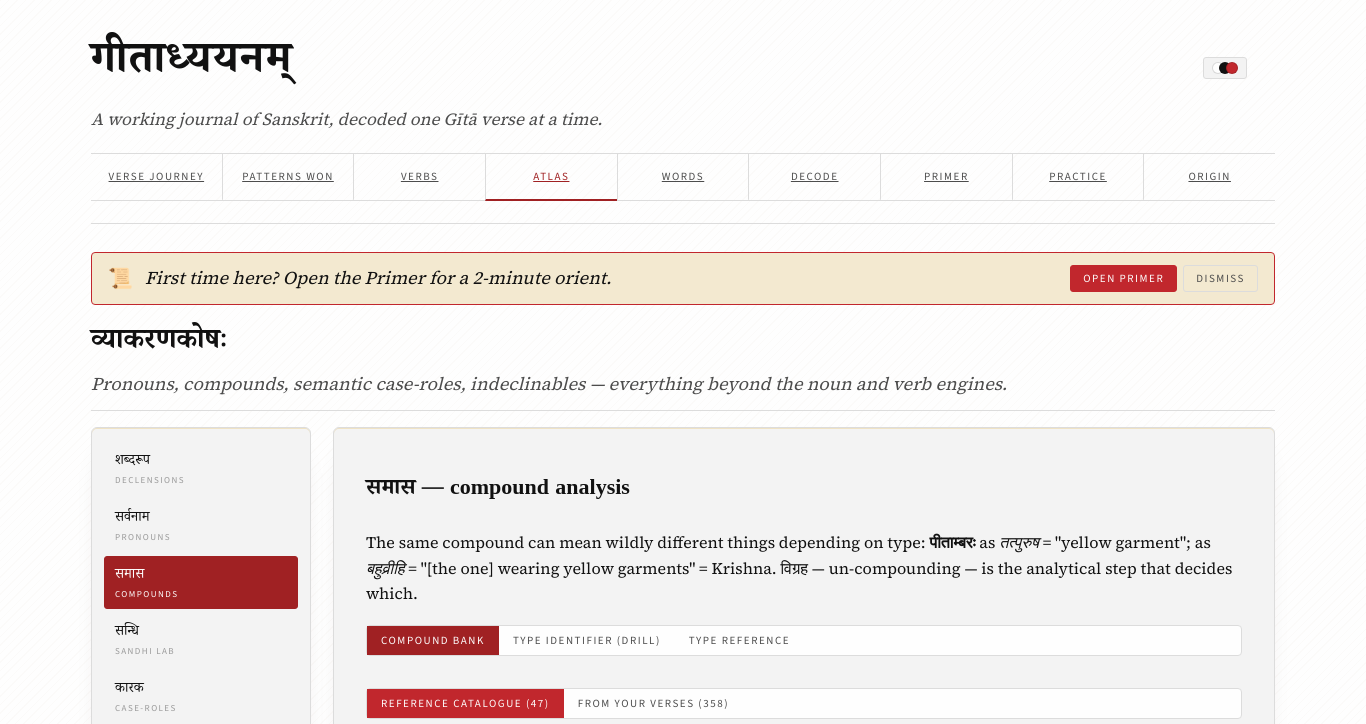
Scenario: workflows — cross-tab learning journeys › W3 — Samāsa Bank verses-mode → click ref → land on verse with compound
The image size is (1366, 724).
Expected: the heading "समास — compound analysis" is shown, [366,474,630,508]
# Switch to "From your verses" mode.
Click the button "From your verses (358)": (653, 703) [564,689,743,718]
(page scrolled)
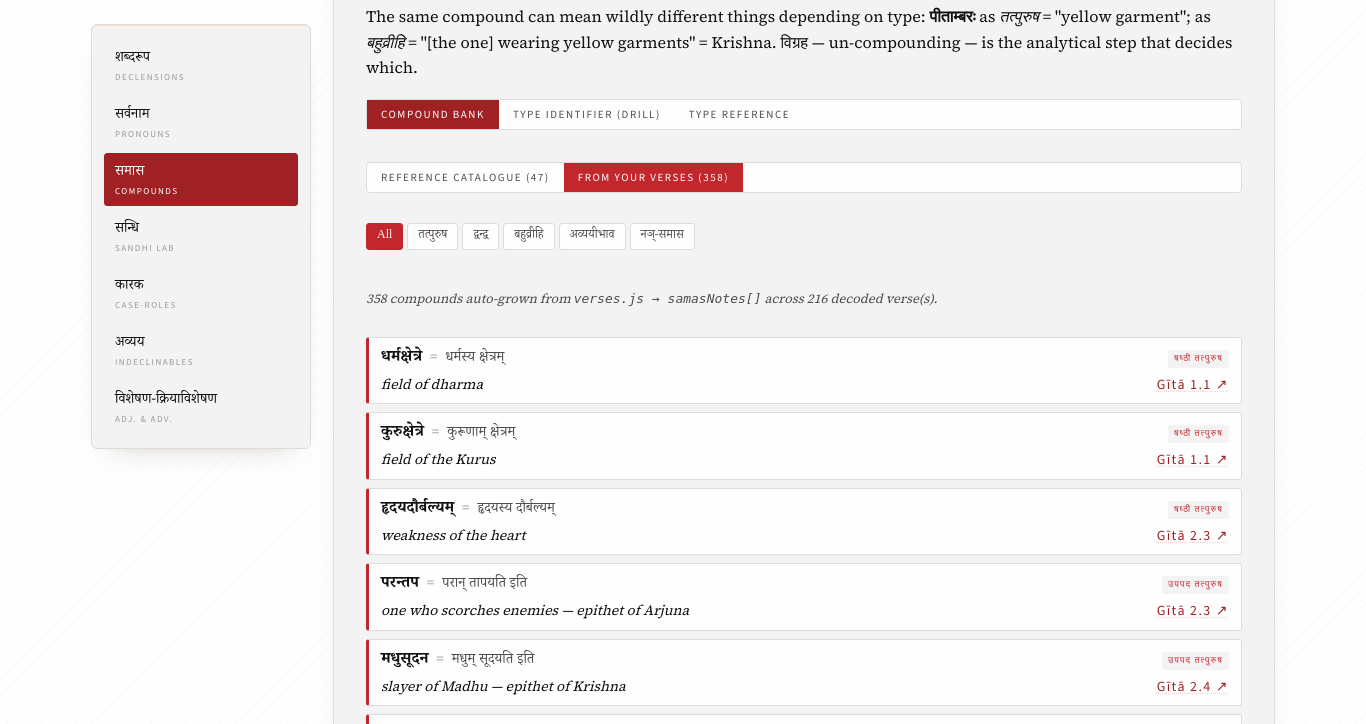
Expected: the button "Gītā 1.1 ↗" in the row of "field of dharma" is shown
Click the button "Gītā 1.1 ↗" in the row of "field of dharma": (1193, 384) [1157,375,1229,394]
(page scrolled)
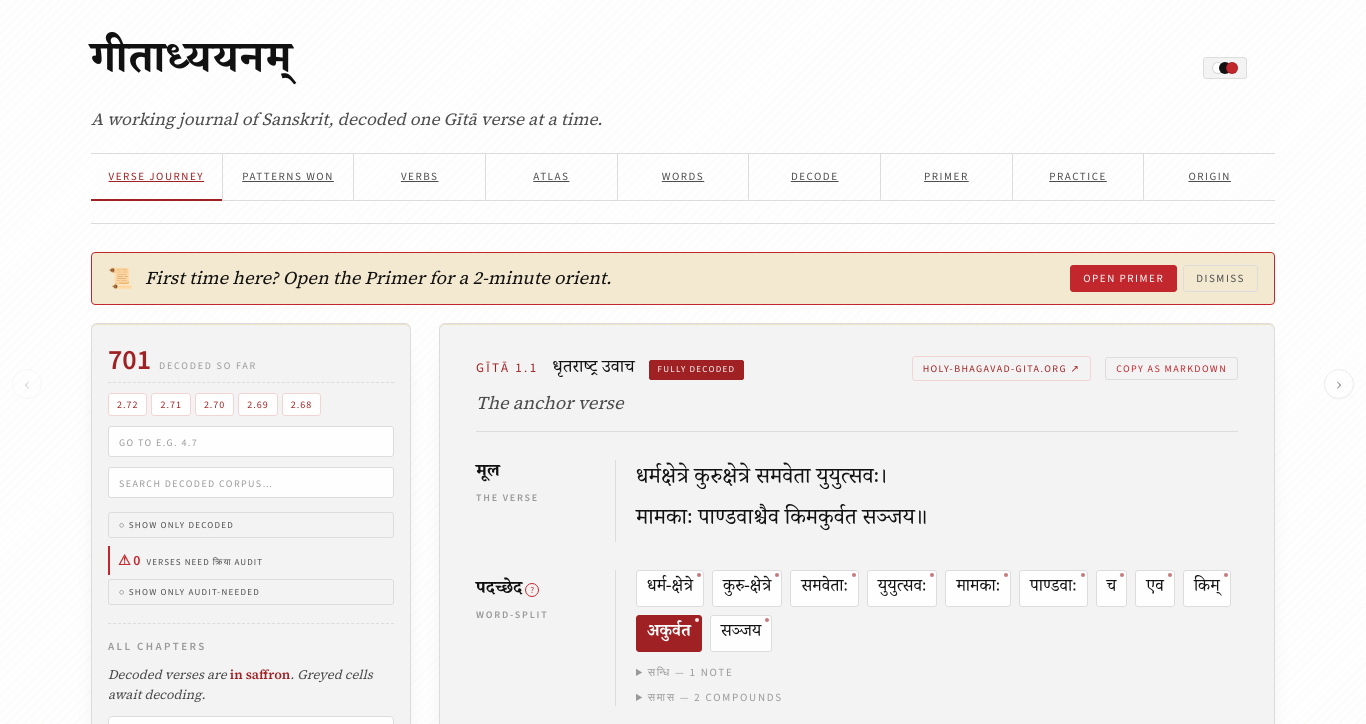
Expected: the text "Gītā 1.1" is shown, [476,358,538,378]
Expected: the heading "समास — 2 compounds" is shown, [648,690,783,705]
